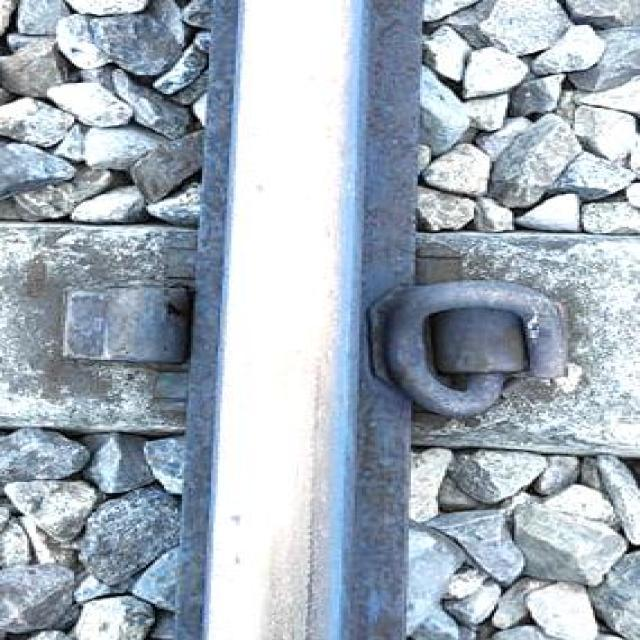Good Fasteners: (354, 271, 586, 417)
Missing Fastener: (19, 268, 204, 403)
